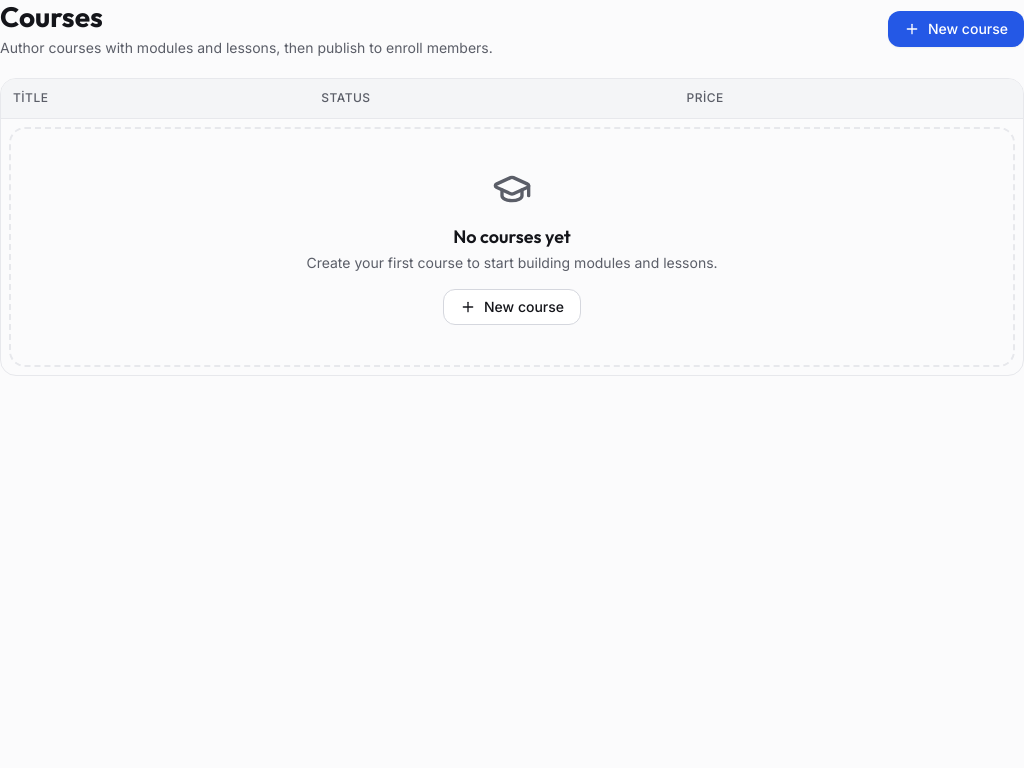
it: CoursesPage › opens the create dialog and validates an empty title
Click the 1st button "New course" at point(956, 29), box [888,11,1023,47]
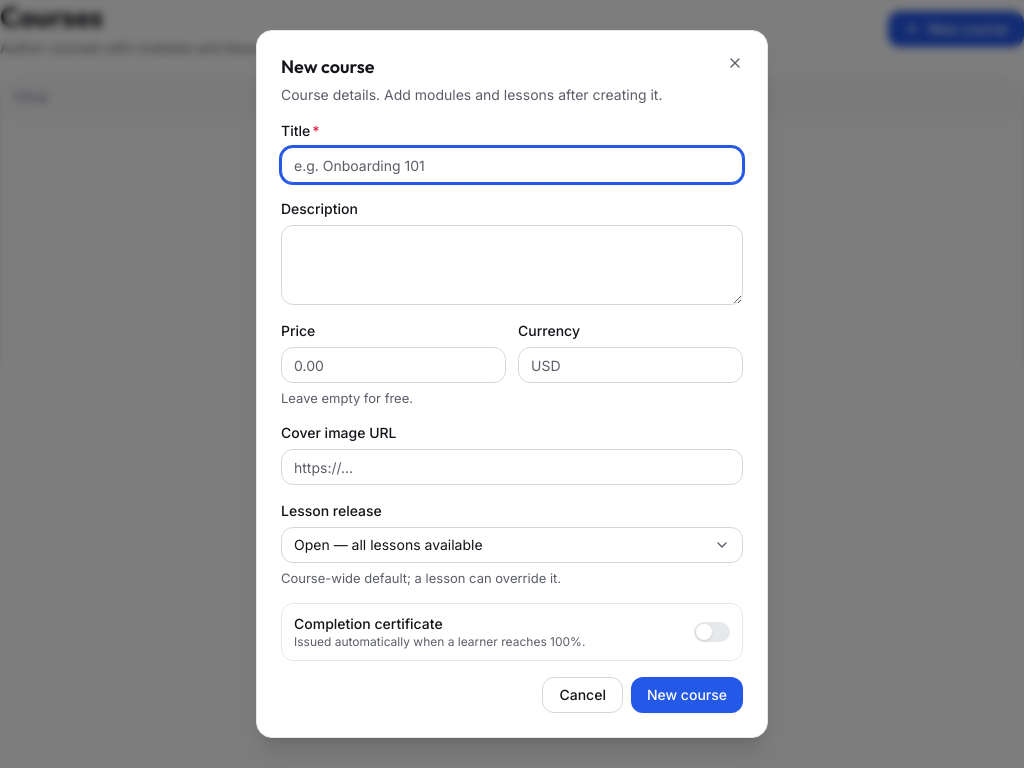
Now the heading "New course" is shown, box [281,55,374,78]
Click the button "New course" at point(687, 695), box [631,677,743,713]
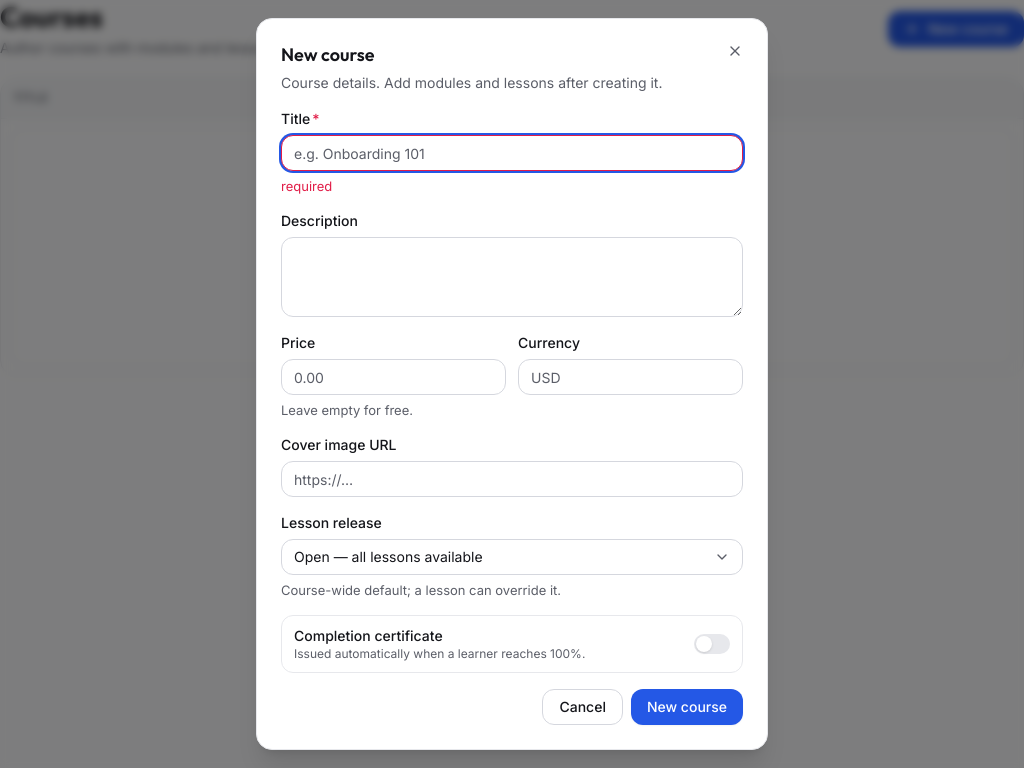
Now the message "required" is shown, box [281,178,332,194]
